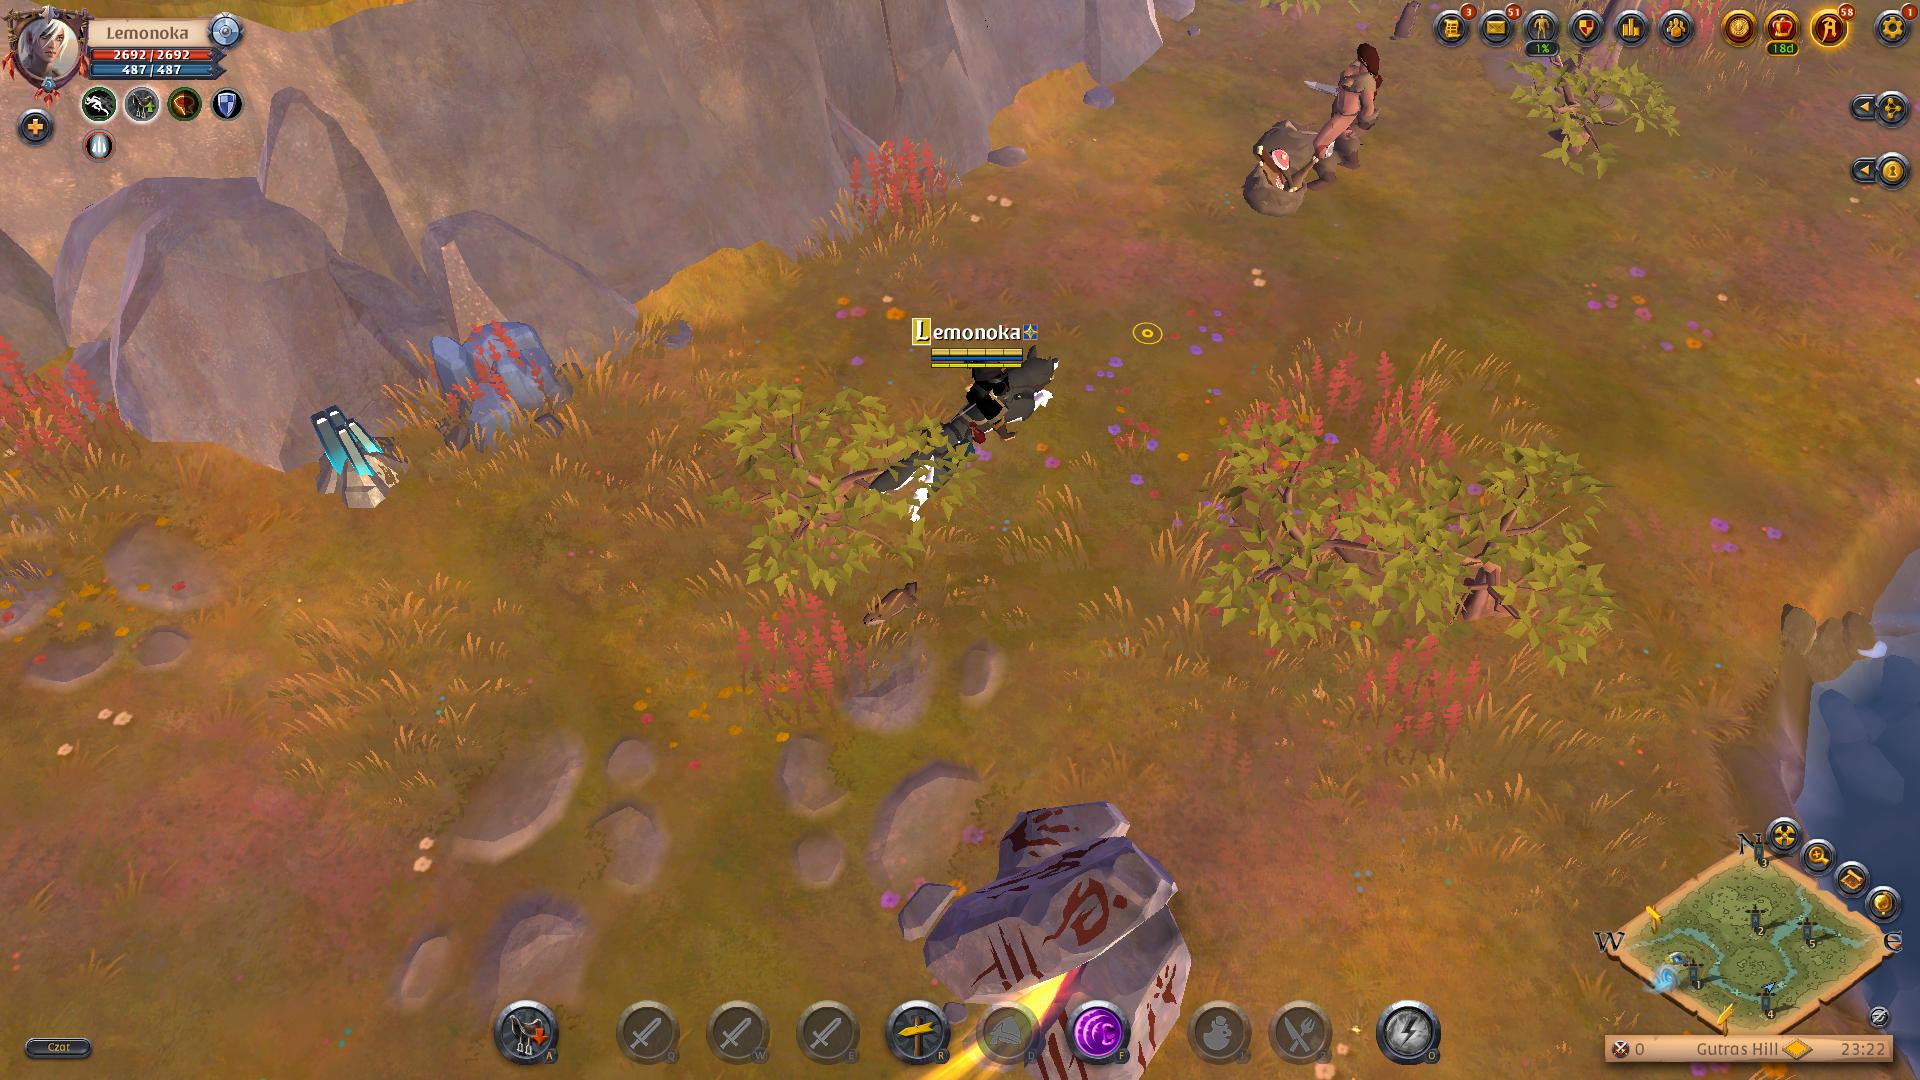ore tier 4: (303, 396, 413, 505)
